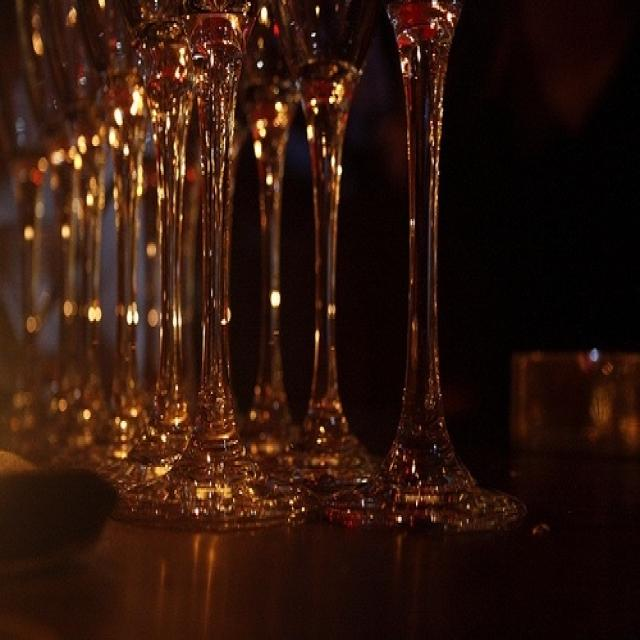Glass: (7, 31, 604, 562)
